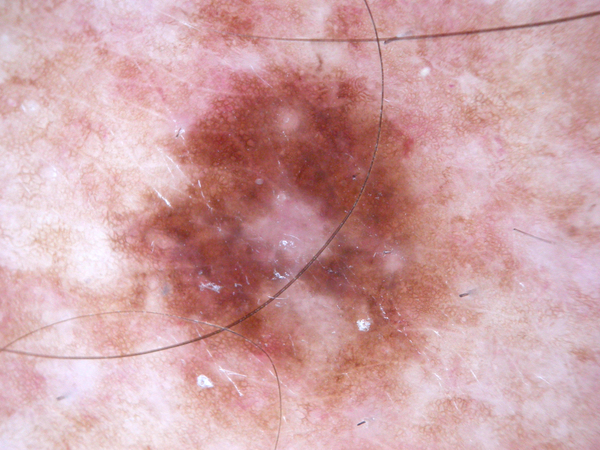Detected Lesion: (124, 61, 445, 383)
